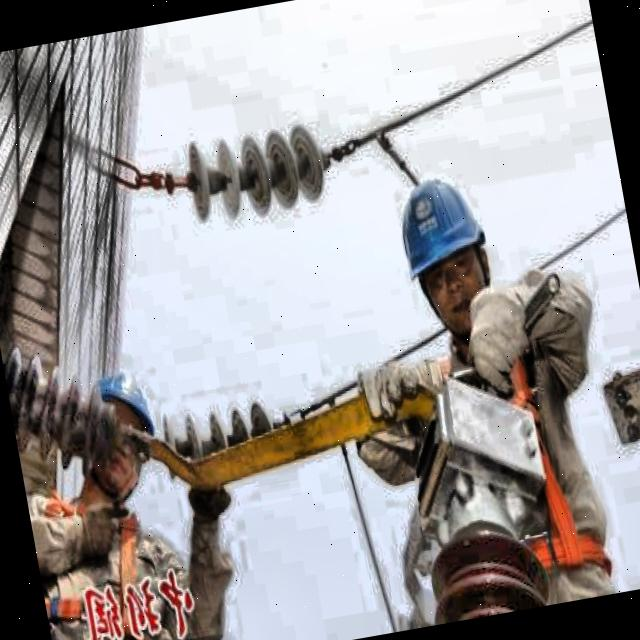helmet: (378, 148, 511, 354), (74, 366, 165, 496)
